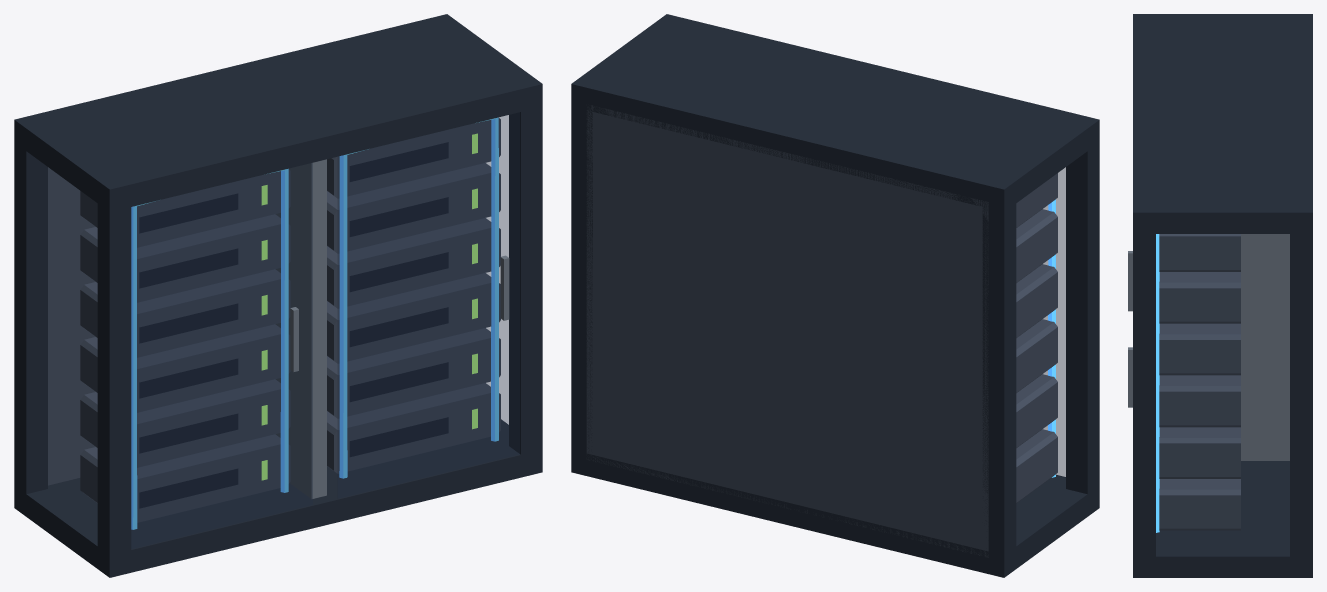
Rendered from fus_quantum_server_rack.glb.
3 views of the same model, side by side, from view 1: azimuth 30°, elevation 25°; view 2: azimuth 150°, elevation 25°; view 3: azimuth 270°, elevation 25° (orthographic). The views are drawn at different scales.
Parts seen in each view (by area): view 1: glazed_rack_door, corner_post, compute_blade, drive_slot, rack_divider, cooling_supply, compute_activity; view 2: compute_blade, corner_post, glazed_rack_door; view 3: corner_post, compute_blade, rack_divider, cooling_supply.
Part boxes in pixels (left/top/right/bottom): glazed_rack_door: left=131, top=112, right=519, bottom=548; corner_post: left=14, top=14, right=542, bottom=577; compute_blade: left=48, top=118, right=500, bottom=522; drive_slot: left=139, top=142, right=448, bottom=508; rack_divider: left=275, top=159, right=509, bottom=498; cooling_supply: left=131, top=117, right=498, bottom=529; compute_activity: left=261, top=133, right=477, bottom=480; compute_blade: left=586, top=105, right=1057, bottom=557; corner_post: left=571, top=14, right=1099, bottom=577; glazed_rack_door: left=1043, top=167, right=1065, bottom=477; corner_post: left=1133, top=14, right=1312, bottom=577; compute_blade: left=1159, top=234, right=1240, bottom=530; rack_divider: left=1128, top=234, right=1289, bottom=460; cooling_supply: left=1156, top=234, right=1159, bottom=532.
Bounding box in the file's own units: 2.8 × 2.4 × 1.1.
